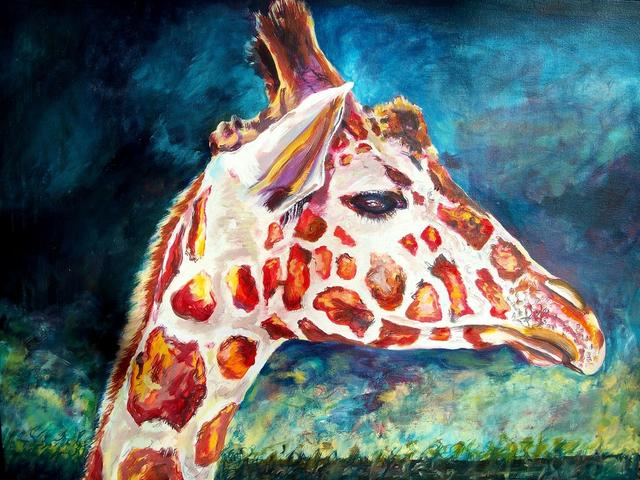giraffe: (52, 20, 611, 404)
